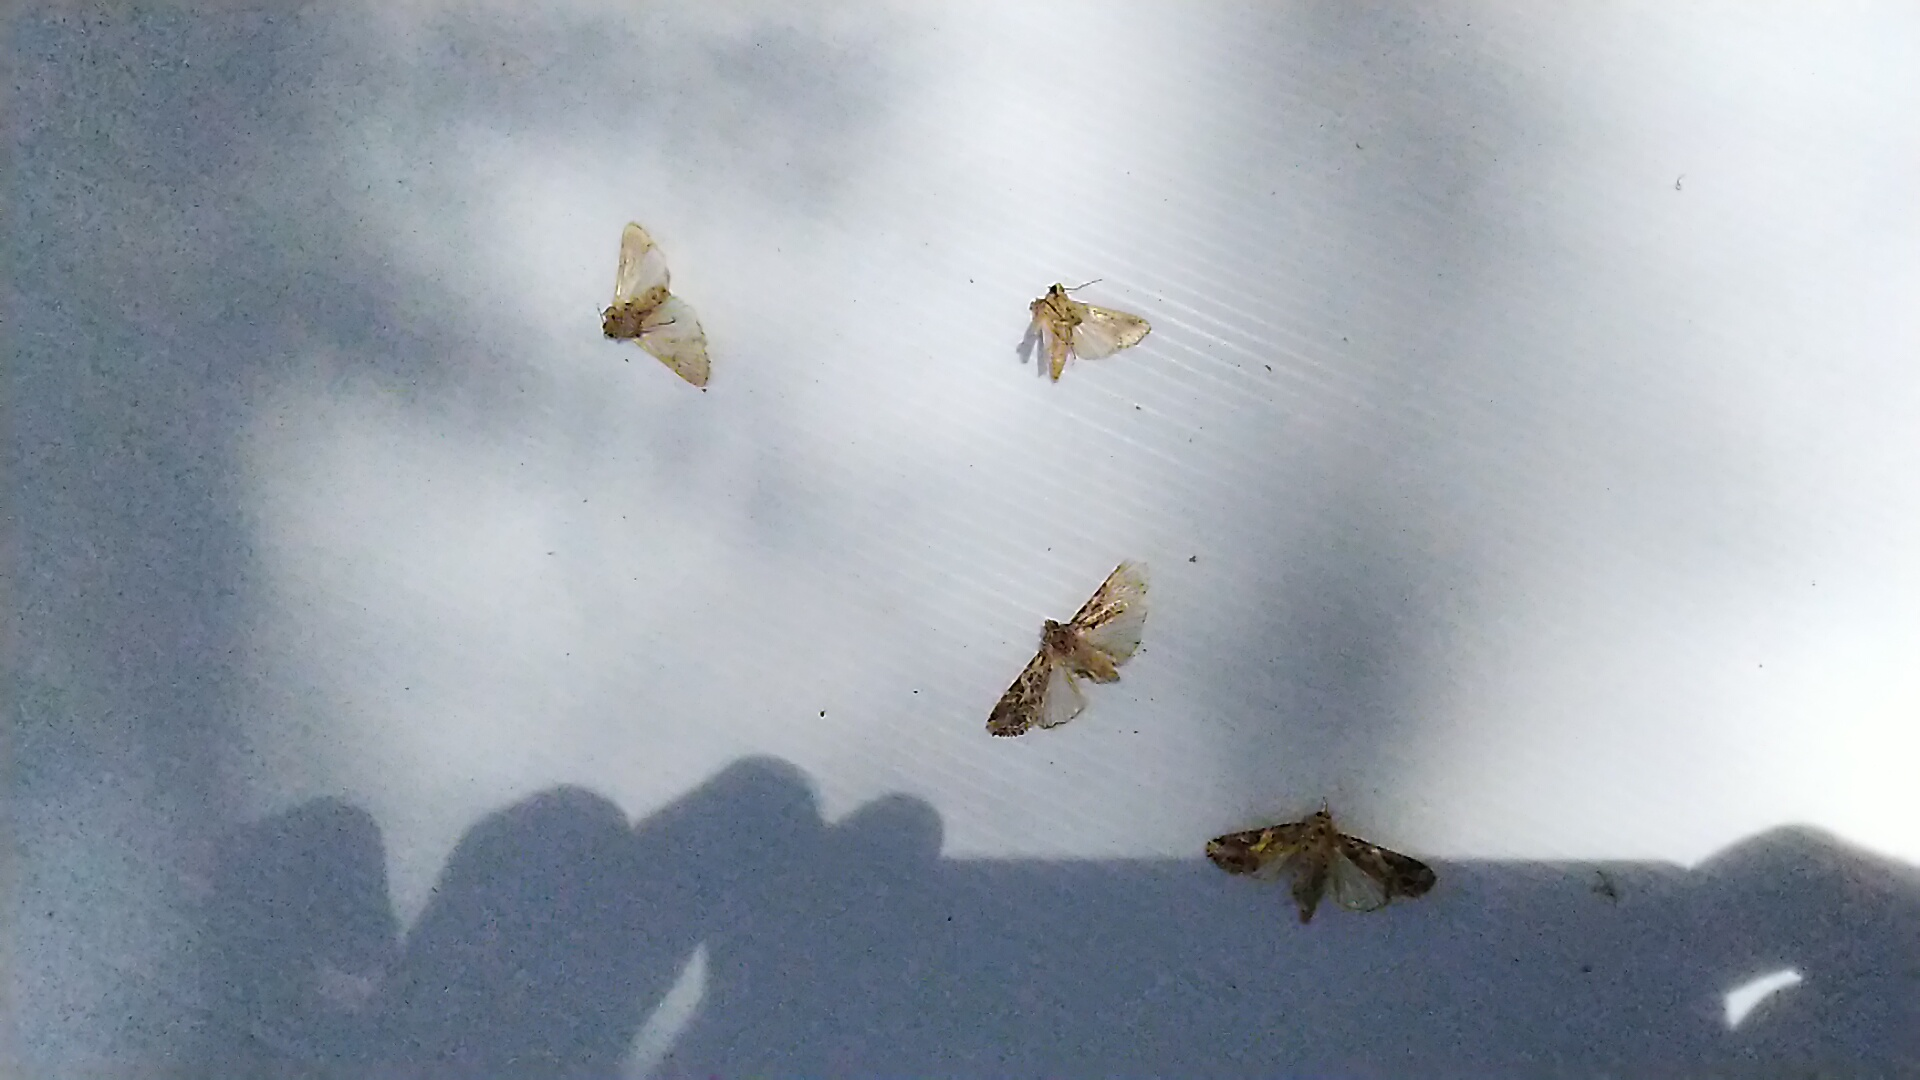INS-B: (1201, 782, 1464, 936), (978, 543, 1162, 742), (589, 215, 724, 401), (1015, 278, 1154, 384)
